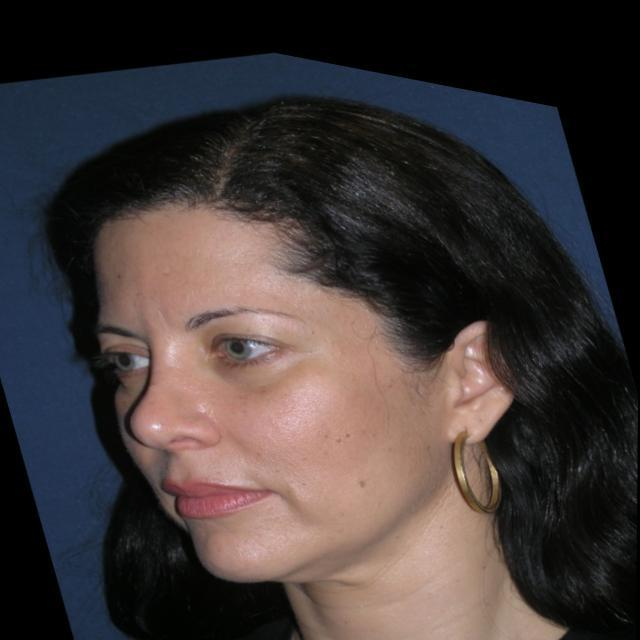Nonhelmet: (39, 91, 635, 634)
